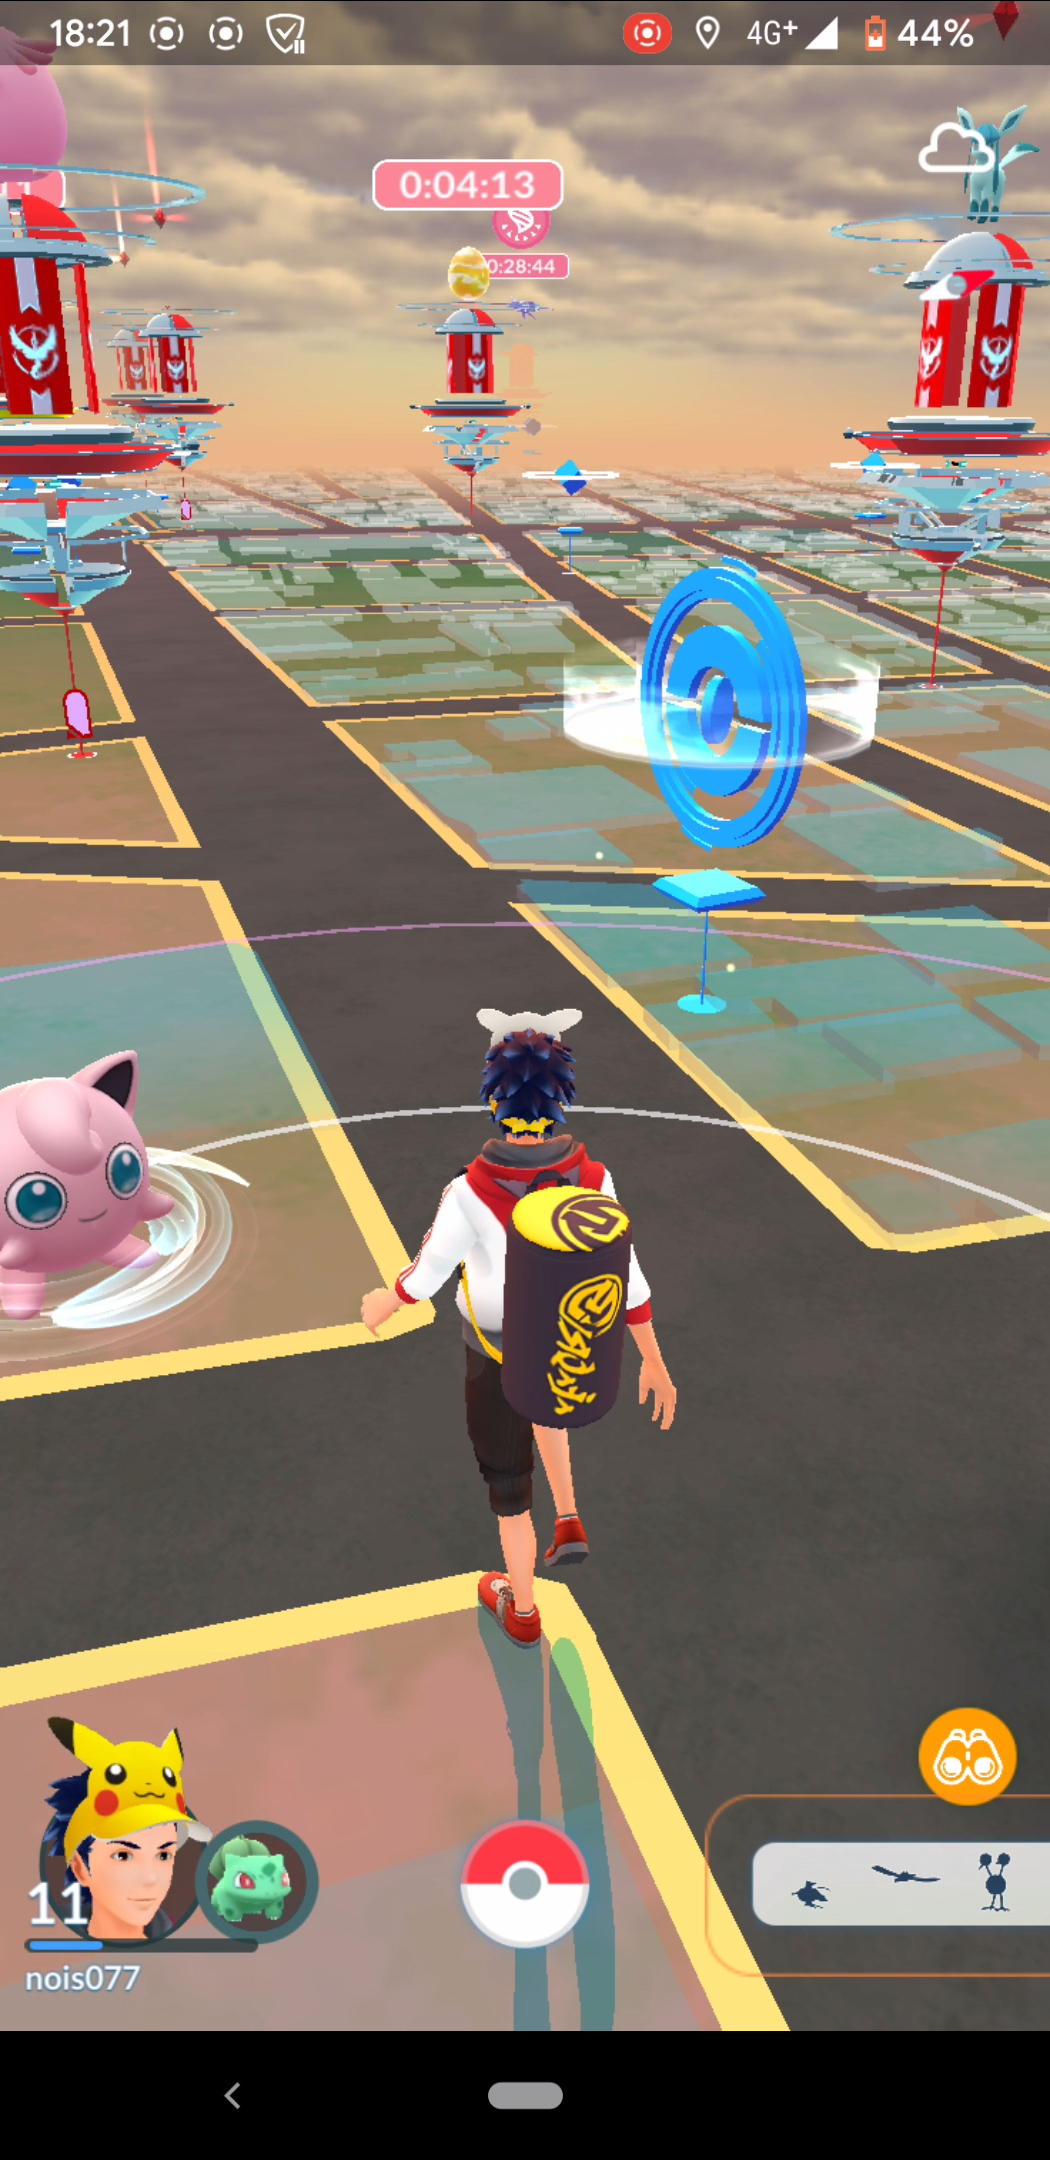pokestop: (638, 552, 809, 855)
